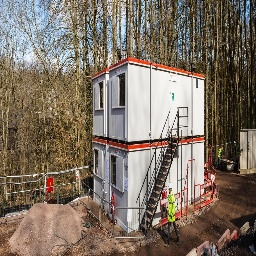helmet: (168, 182, 173, 191), (221, 146, 223, 150)
person: (164, 182, 180, 247), (217, 146, 224, 169)
vest: (168, 194, 176, 223), (218, 148, 221, 159)
